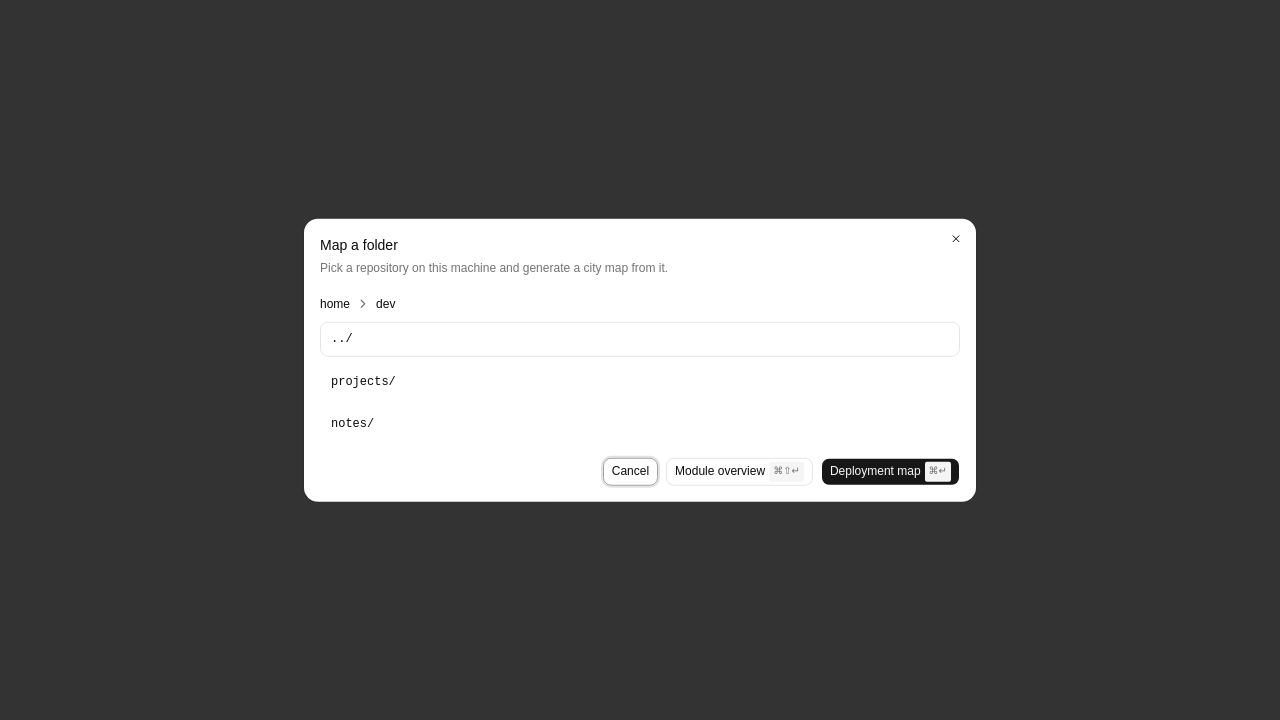
Test: FolderBrowser › given a failing generate, when a map is requested, then the error is shown and nothing is handed back
Expected: the text "projects/" is shown, [331,373,396,390]
Click the button "Deployment map ⌘↵".
click(890, 471)  # box [821,457,960,485]
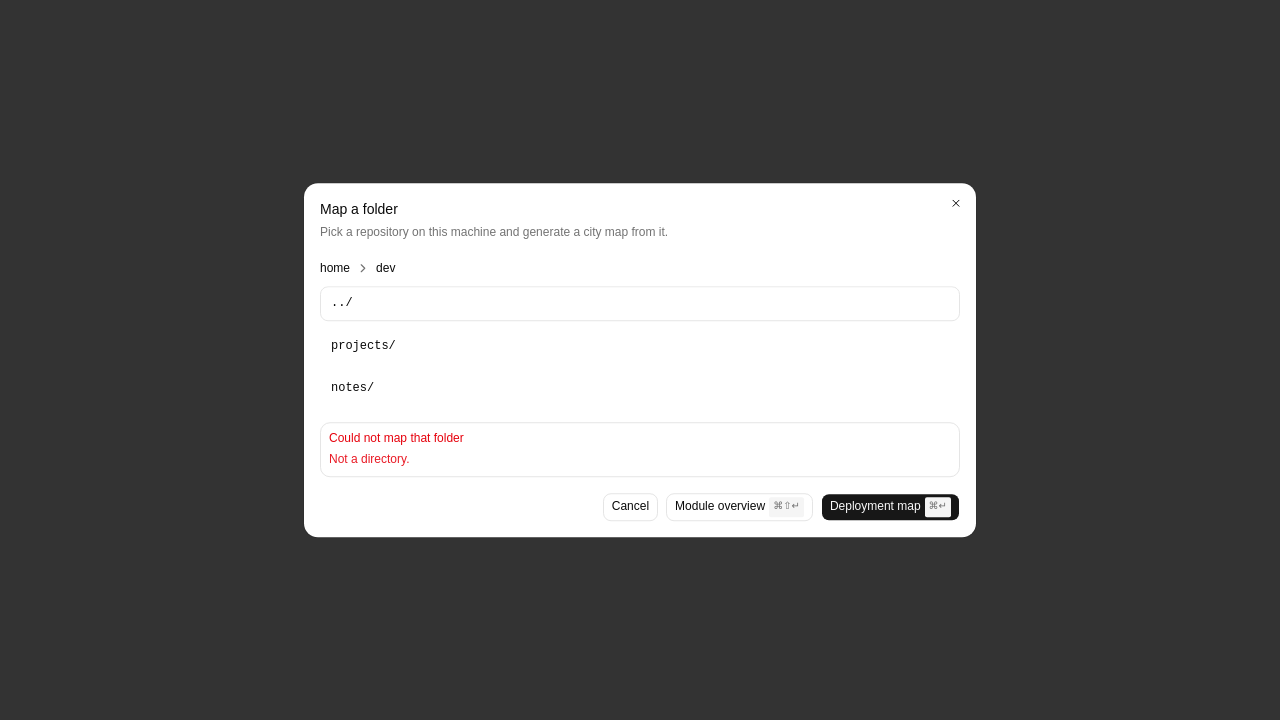
Now the text "Not a directory." is shown, box [329,452,410,466]
